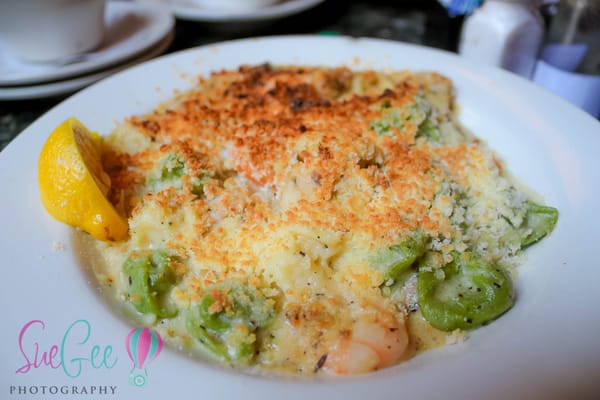taco: (38, 116, 130, 242)
